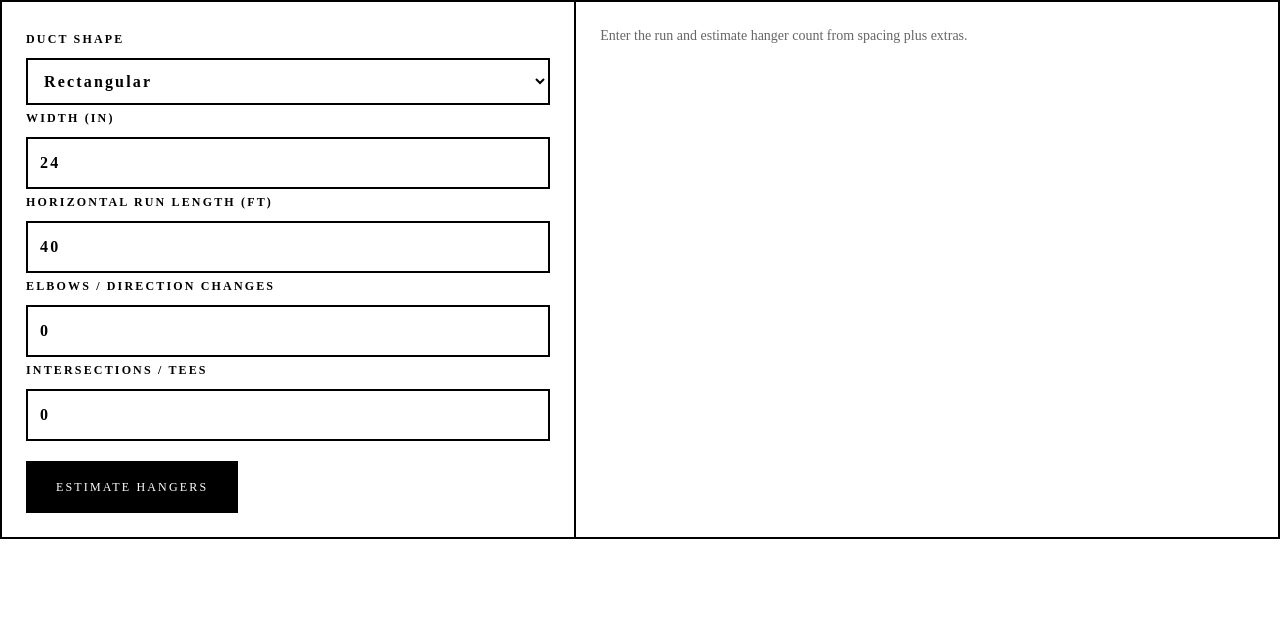
Scenario: HangerSpacingCalculator › rejects non-numeric size with an accessible error
Replace the text in the field labelled "Width (in)" with "nope" at (288, 163), box [26,137,550,189]
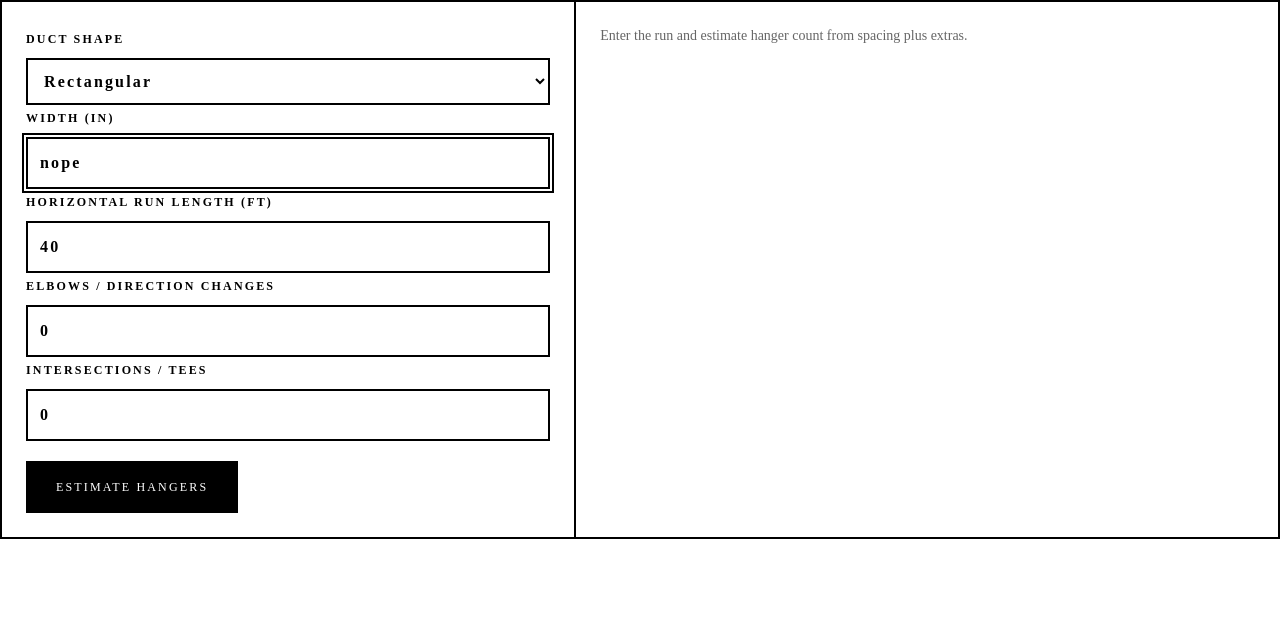
Click the button "Estimate hangers" at (132, 487), box [26,461,238,513]
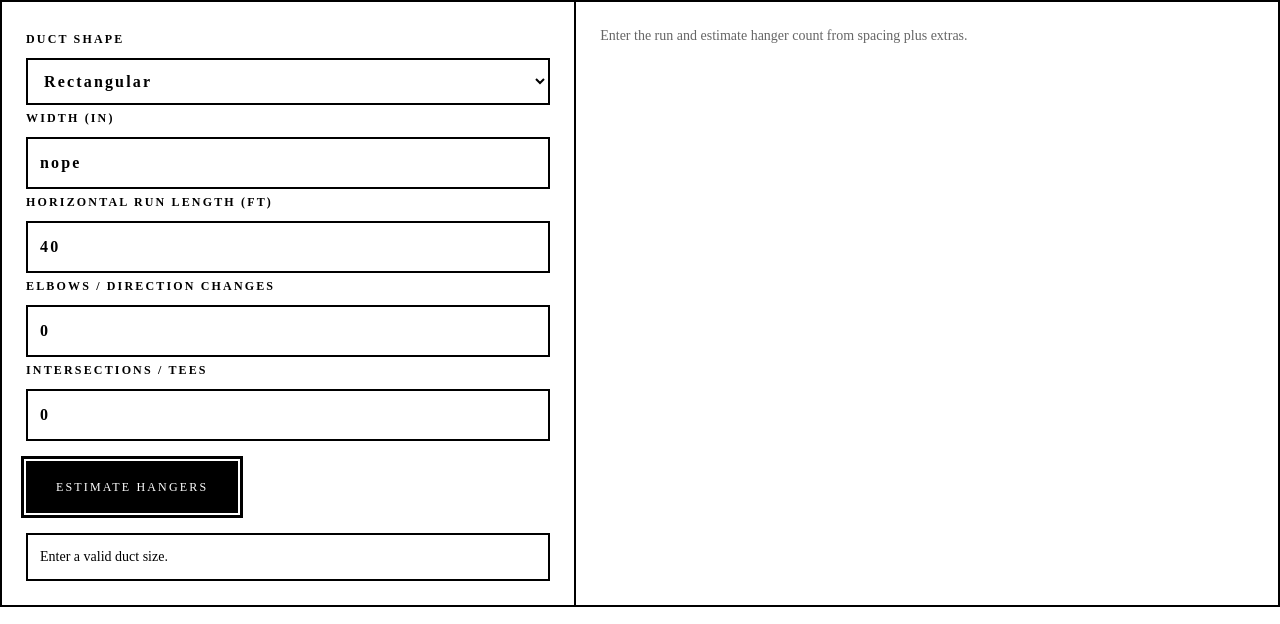
expect the message shows "valid duct size": met, box [40,549,168,564]
